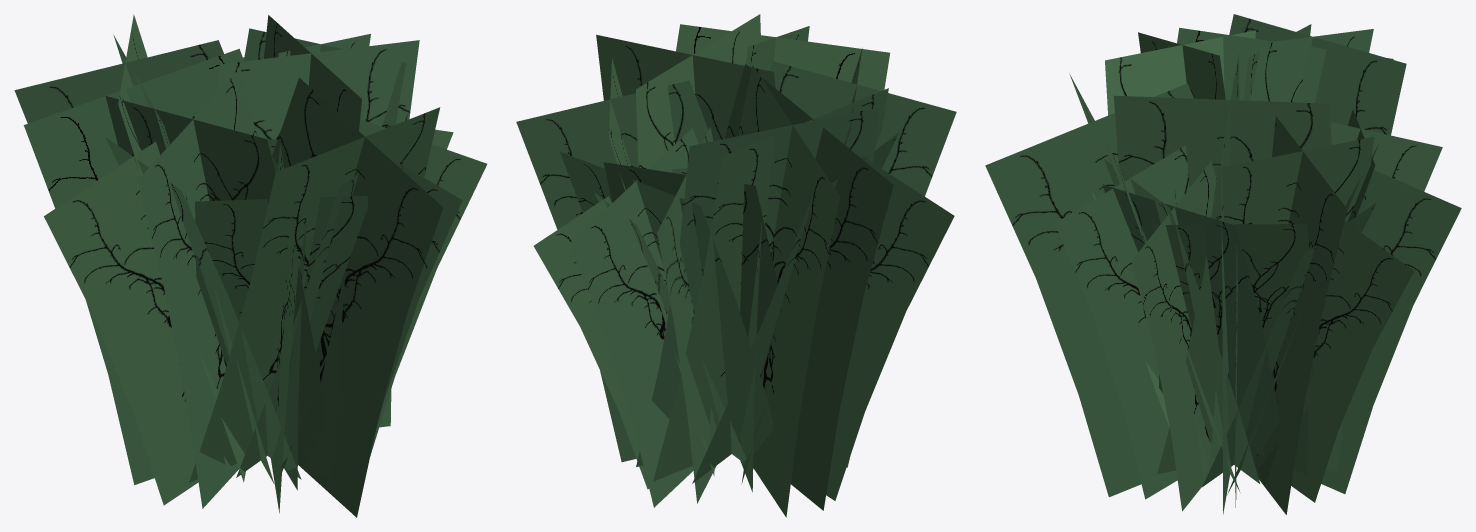
Rendered from Branch_PNG_Dense_02_Tall.fbx.
3 renders of one model, left to right at view 1: azimuth 30°, elevation 25°; view 2: azimuth 150°, elevation 25°; view 3: azimuth 270°, elevation 25°, orthographic. The views are drawn at different scales.
Parts seen in each view (by area): view 1: Branch_PNG_Dense_02_Tall.001; view 2: Branch_PNG_Dense_02_Tall.001; view 3: Branch_PNG_Dense_02_Tall.001.
Boxes of the visible parts, left/top/right/bottom form: Branch_PNG_Dense_02_Tall.001: left=14, top=14, right=487, bottom=517; Branch_PNG_Dense_02_Tall.001: left=516, top=14, right=956, bottom=517; Branch_PNG_Dense_02_Tall.001: left=985, top=14, right=1461, bottom=514.
Bounding box in the file's own units: 204 × 207 × 209.
